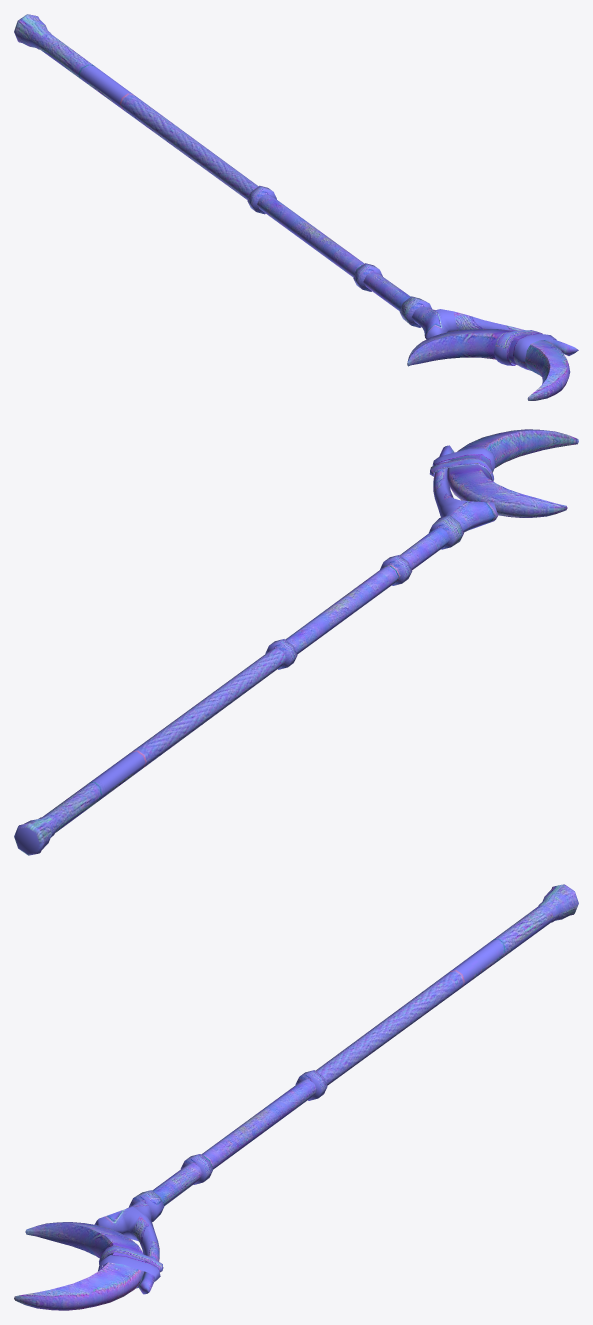
File: Staff.glb
3 renders of one model, top to bottom at view 1: azimuth 30°, elevation 25°; view 2: azimuth 150°, elevation 25°; view 3: azimuth 330°, elevation 25°, orthographic. The views are drawn at different scales.
Parts seen in each view (by area): view 1: Staff; view 2: Staff; view 3: Staff.
Boxes of the visible parts, bbox=[...] form: Staff: bbox=[14, 14, 578, 400]; Staff: bbox=[14, 429, 578, 855]; Staff: bbox=[14, 884, 578, 1310].
Bounding box in the file's own units: 2.52 × 0.5414 × 15.37.
Materials: 1 (1 with a texture image).
